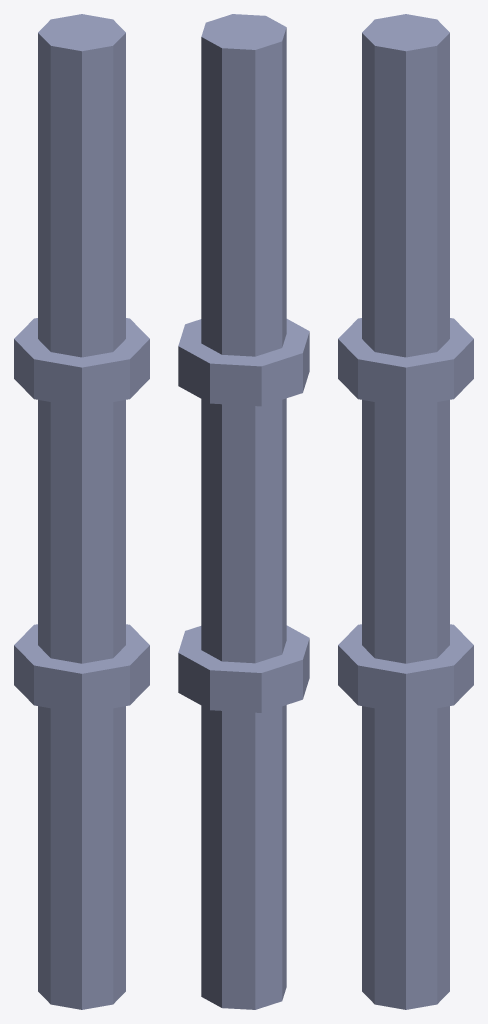
The model's file is gutter-vertical-wall.obj.
3 views of the same model, side by side, from view 1: azimuth 90°, elevation 25°; view 2: azimuth 150°, elevation 25°; view 3: azimuth 270°, elevation 25° (orthographic).
Size of the model in its own units: 0.3082 by 2.4 by 0.3082.
